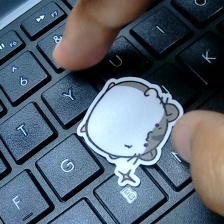mouse: (75, 72, 183, 188)
